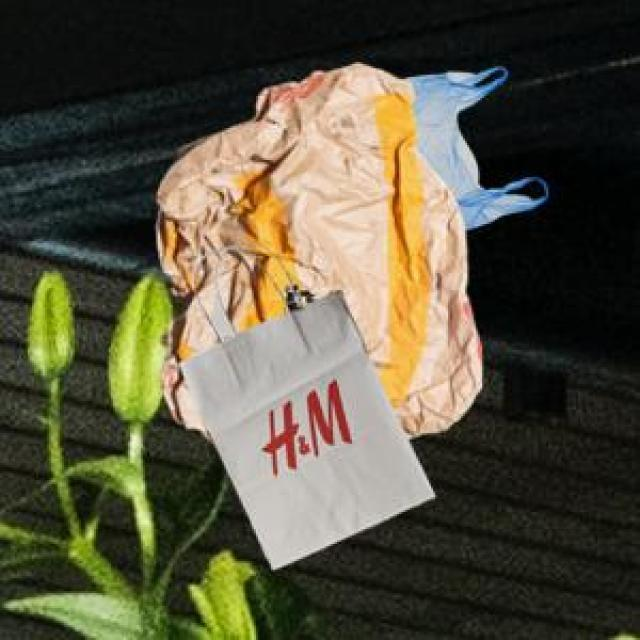paper: (152, 60, 478, 437), (175, 277, 431, 565)
